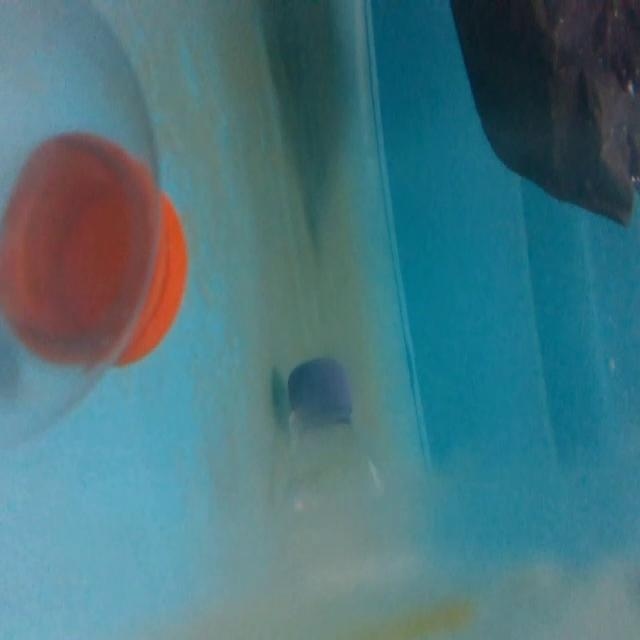plastic bags: (446, 3, 640, 229)
